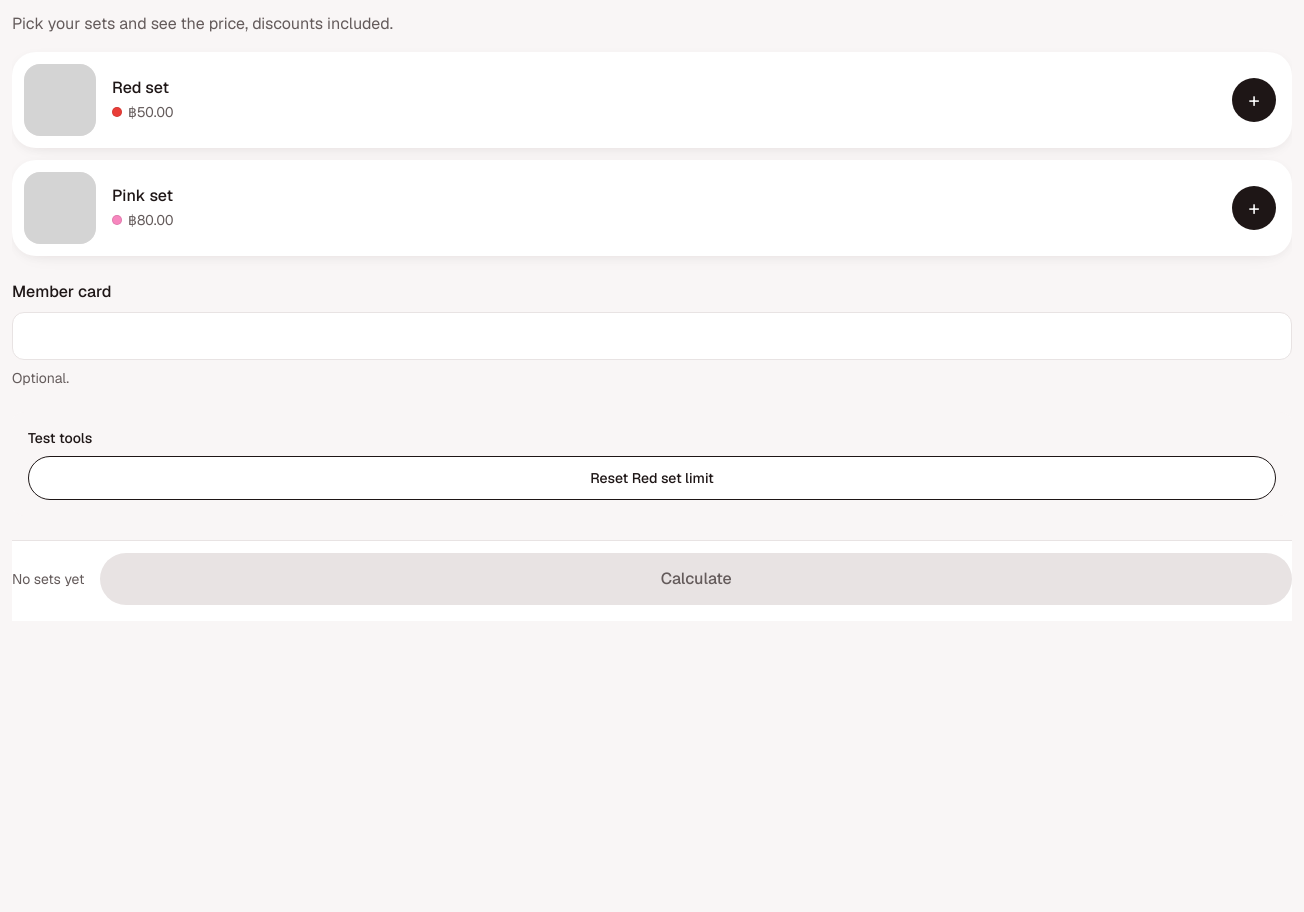
Scenario: Calculator › resets the Red set limit from the test tools and confirms it
Click the button "Reset Red set limit". click: point(652, 478)
box: [28,456,1276,500]
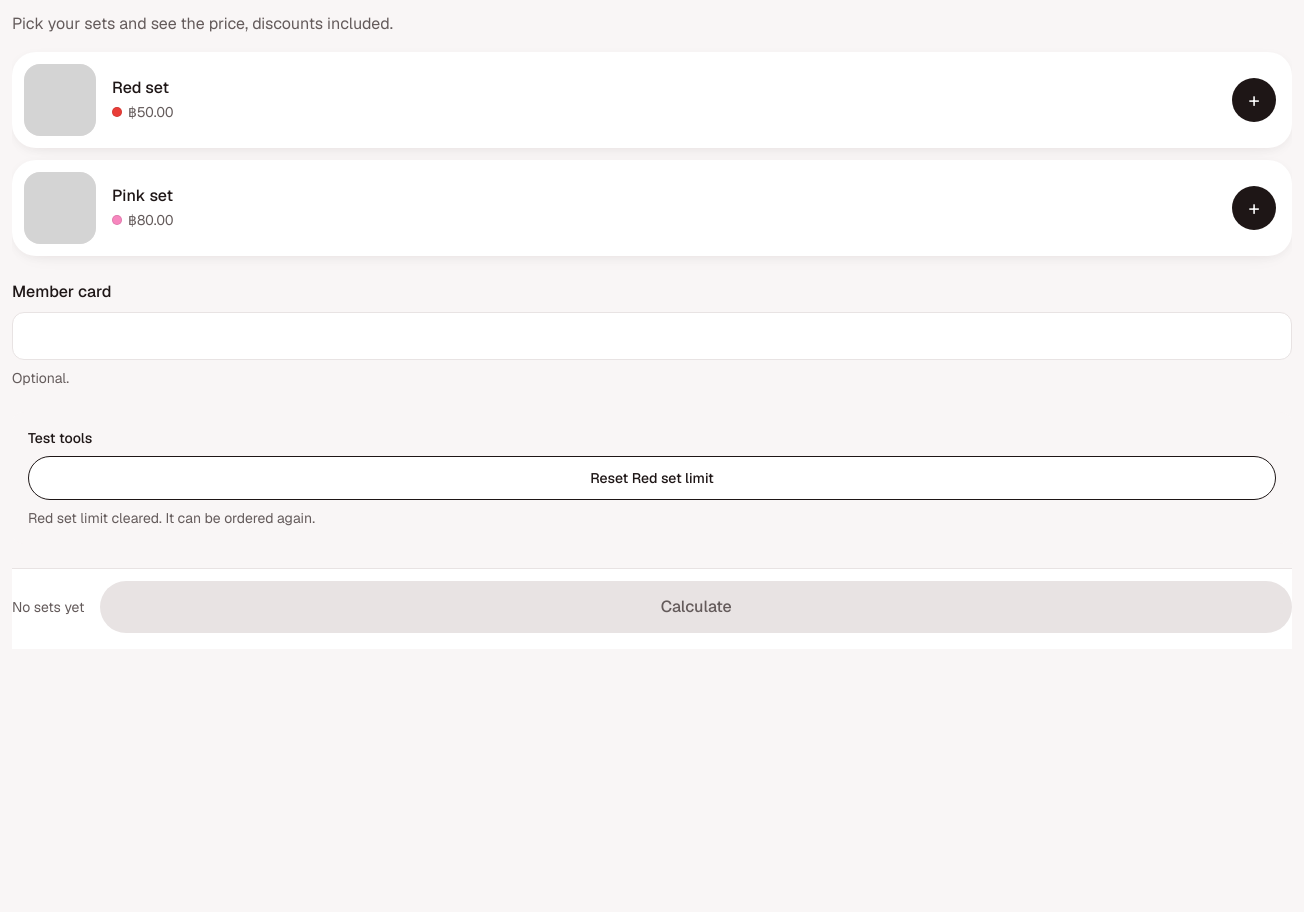
Now the message shows "limit cleared", box [28,509,315,527]
